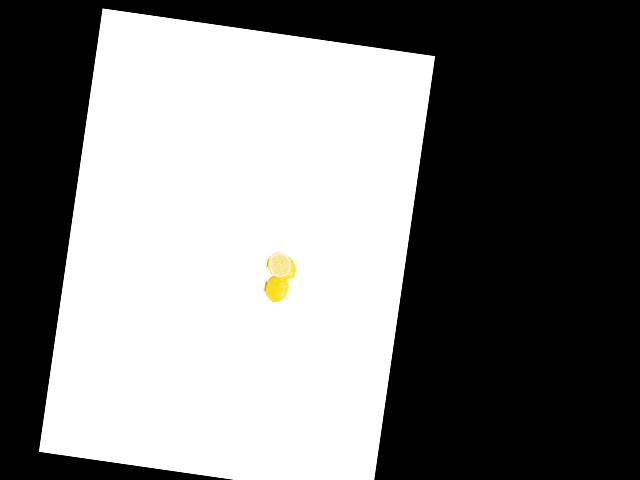lemon: (271, 249, 300, 282)
